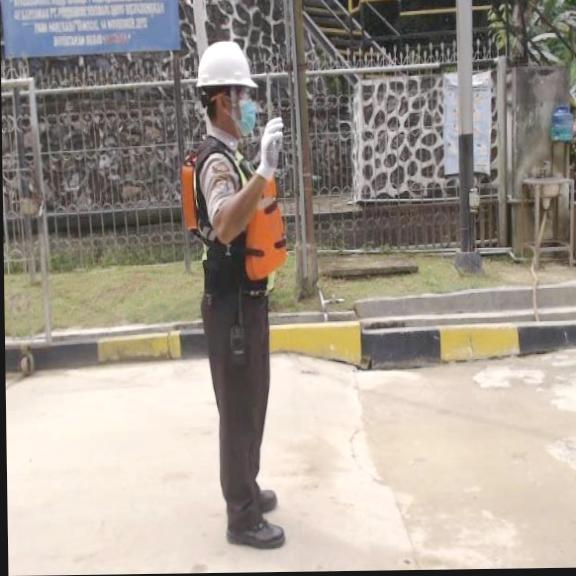safety_vest: (176, 159, 292, 284)
